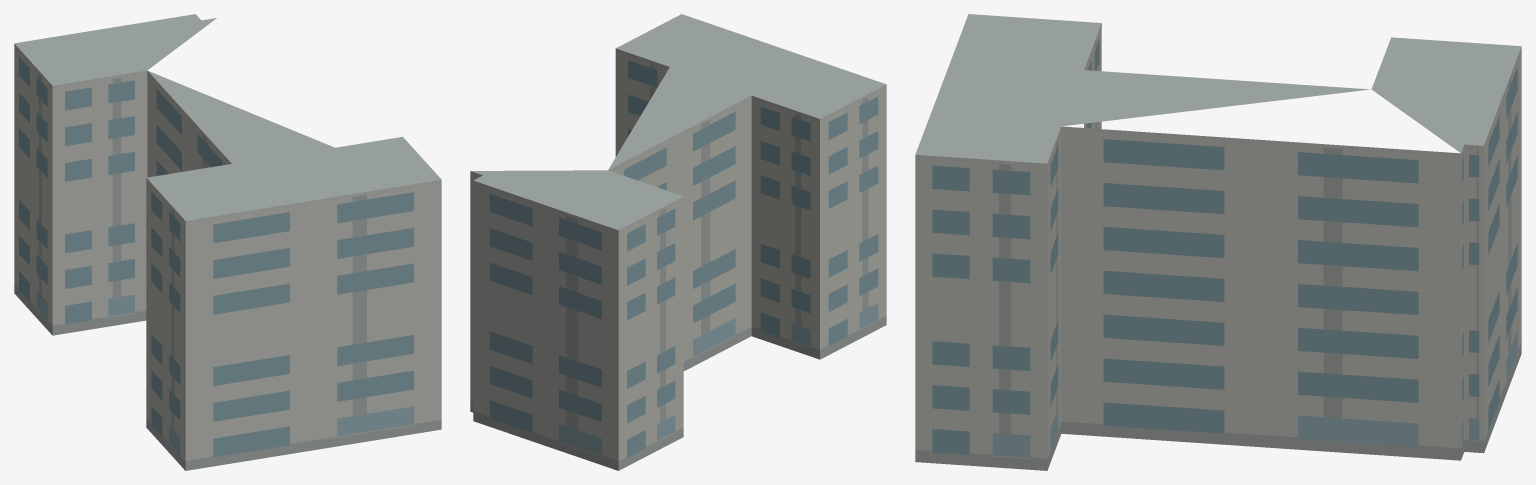
The model's file is residential-90551a59-0244-473b-90fe-08fc42cb750c.glb.
3 renders of one model, left to right at view 1: azimuth 30°, elevation 25°; view 2: azimuth 150°, elevation 25°; view 3: azimuth 270°, elevation 25°, orthographic. The views are drawn at different scales.
Parts seen in each view (by area): view 1: residential-90551a59-0244-473b-90fe-08fc42cb750c.tmp; view 2: residential-90551a59-0244-473b-90fe-08fc42cb750c.tmp; view 3: residential-90551a59-0244-473b-90fe-08fc42cb750c.tmp.
Boxes of the visible parts, <box> form: residential-90551a59-0244-473b-90fe-08fc42cb750c.tmp: <box>14,14,441,470</box>; residential-90551a59-0244-473b-90fe-08fc42cb750c.tmp: <box>470,14,886,470</box>; residential-90551a59-0244-473b-90fe-08fc42cb750c.tmp: <box>915,14,1521,470</box>.
Size of the model in its own units: 22.31 by 21.35 by 38.19.
